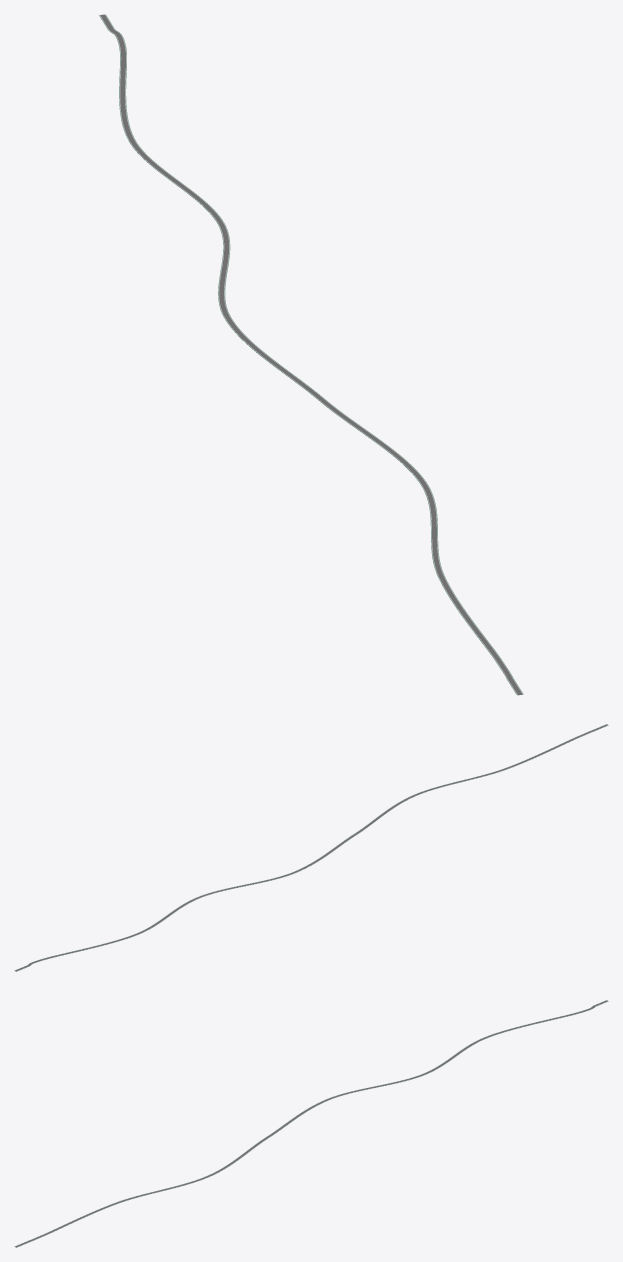
The model's file is road_roam_cross_desert.glb.
3 views of the same model, one above another, from view 1: azimuth 30°, elevation 25°; view 2: azimuth 150°, elevation 25°; view 3: azimuth 330°, elevation 25° (orthographic). The views are drawn at different scales.
Visible parts, largest first — view 1: road; view 2: road; view 3: road.
Part boxes in pixels (bbox=[...]): road: bbox=[99, 14, 523, 695]; road: bbox=[14, 724, 608, 971]; road: bbox=[14, 1000, 608, 1247].
Size of the model in its own units: 765 by 0.32 by 2730.
